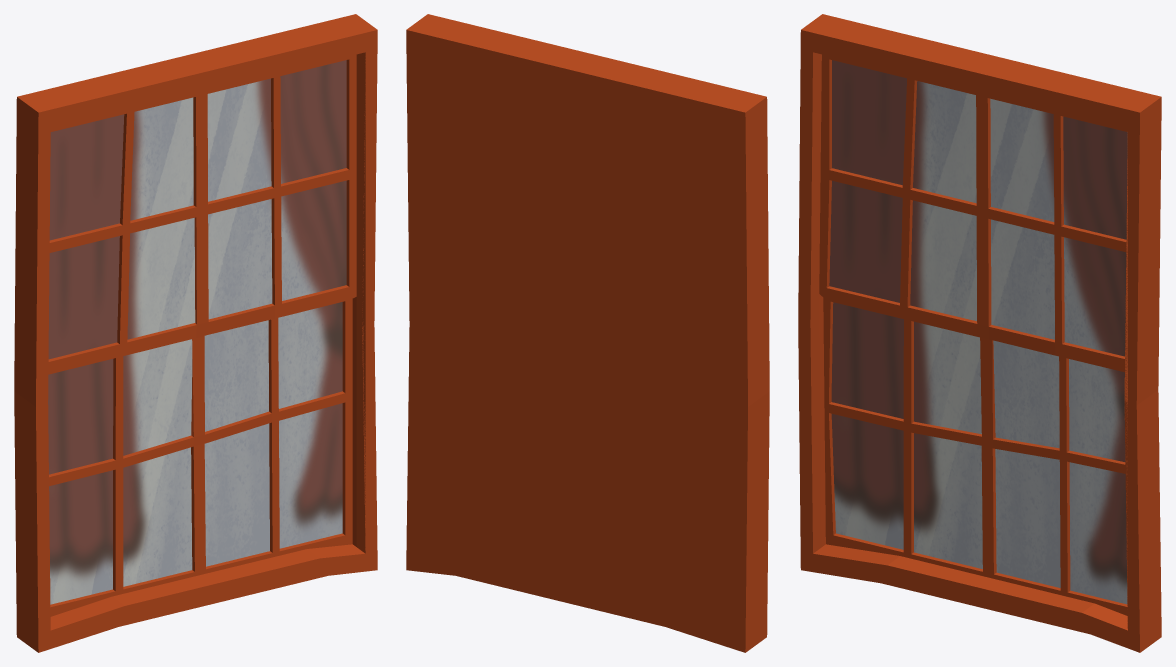
File: Window3.fbx
The picture shows the model from 3 angles, left to right: view 1: azimuth 30°, elevation 25°; view 2: azimuth 150°, elevation 25°; view 3: azimuth 330°, elevation 25°; orthographic projection.
Parts seen in each view (by area): view 1: Cube.030; view 2: Cube.030; view 3: Cube.030.
Part boxes in pixels (x1,y1,x2,y2): Cube.030: [14, 14, 377, 652]; Cube.030: [406, 14, 769, 652]; Cube.030: [798, 14, 1161, 652].
Size of the model in its own units: 111 by 168 by 12.18.
